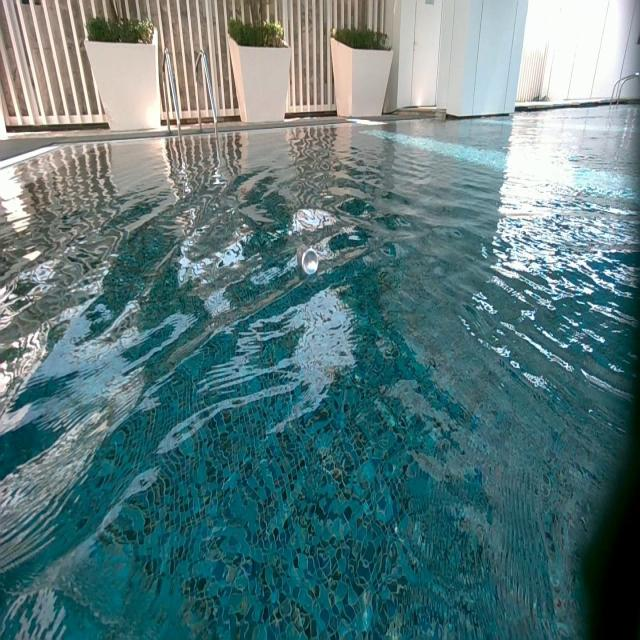Cans: (295, 242, 319, 276)
